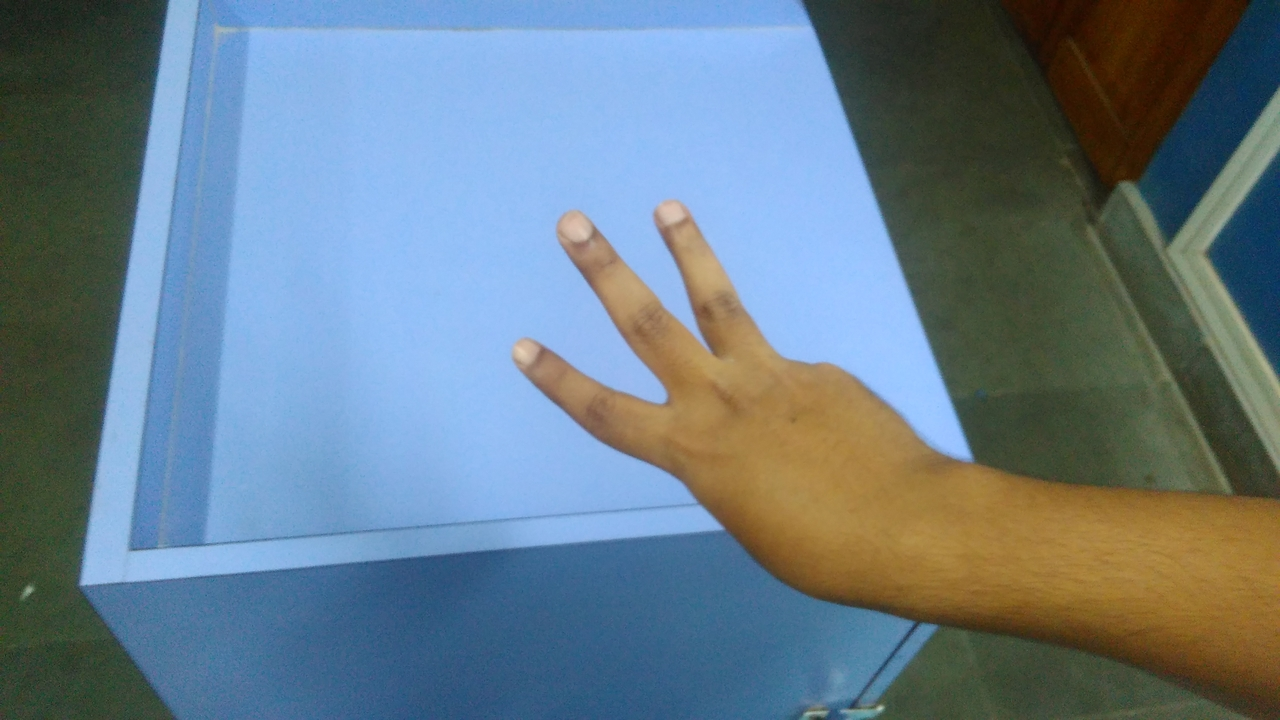fingertip: (544, 196, 614, 254), (496, 324, 564, 382), (642, 186, 710, 240)
